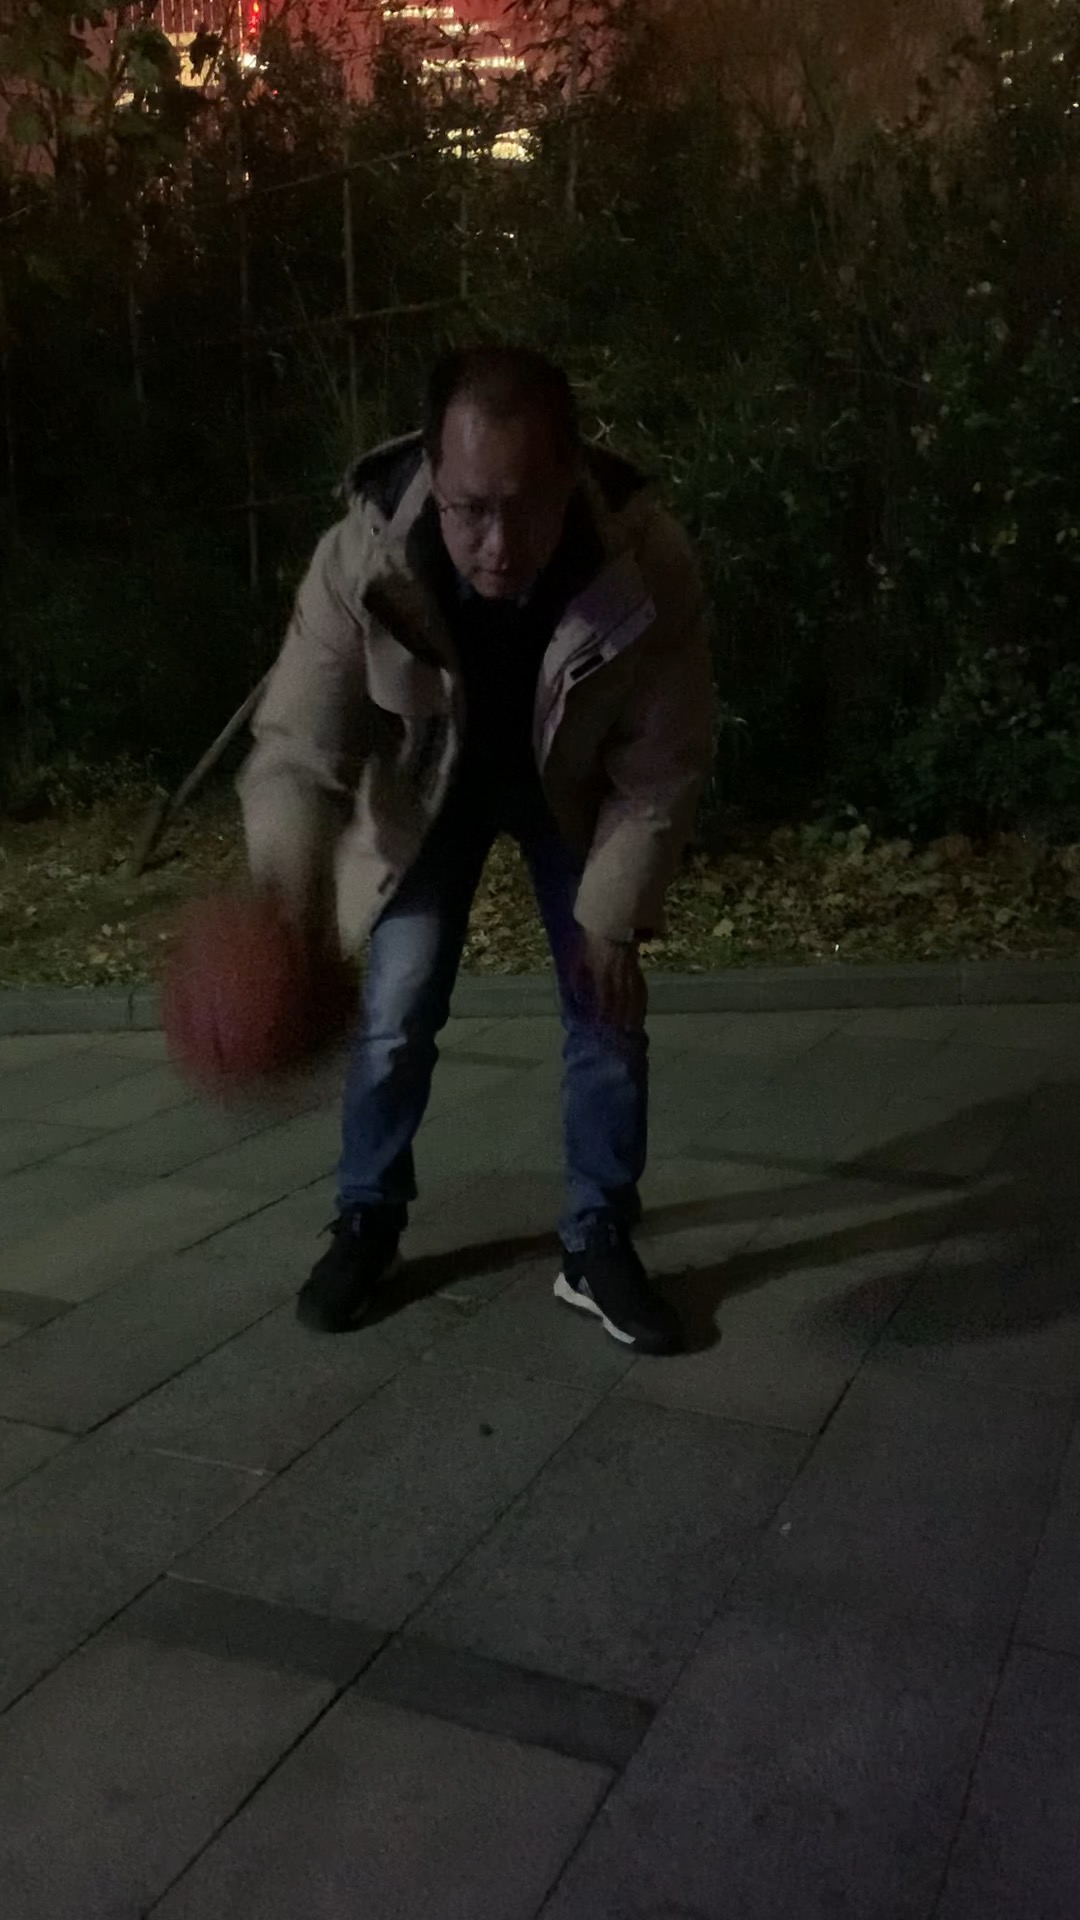ball: (164, 906, 367, 1104)
